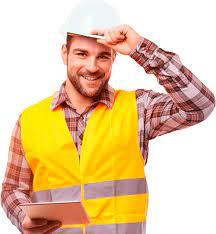hat: (52, 1, 139, 61)
vest: (11, 72, 150, 234)
